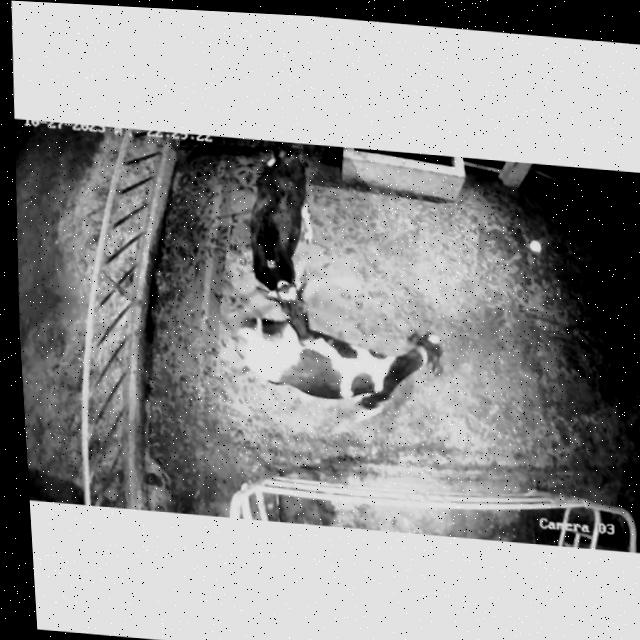propping: (234, 255, 356, 371)
